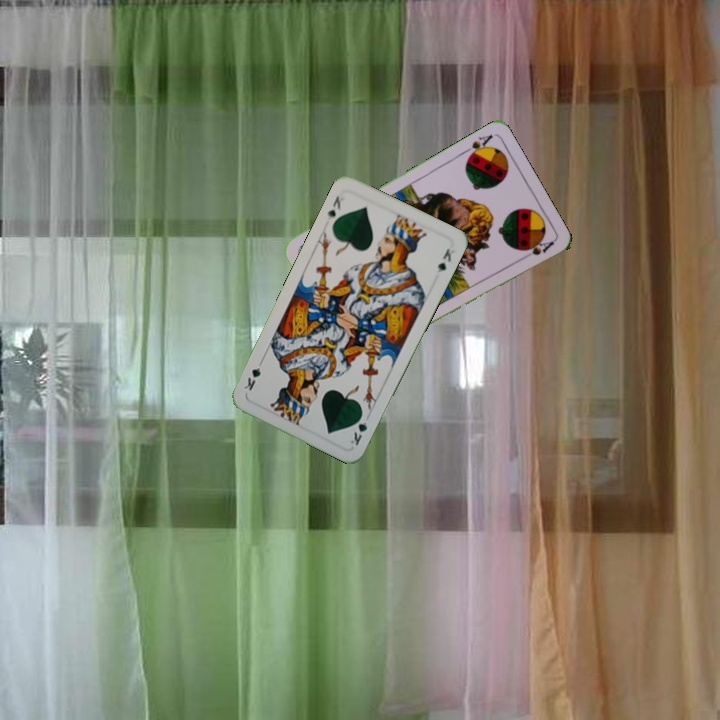GK: (345, 409, 372, 448), (322, 192, 343, 223)
SA: (458, 130, 496, 162)
